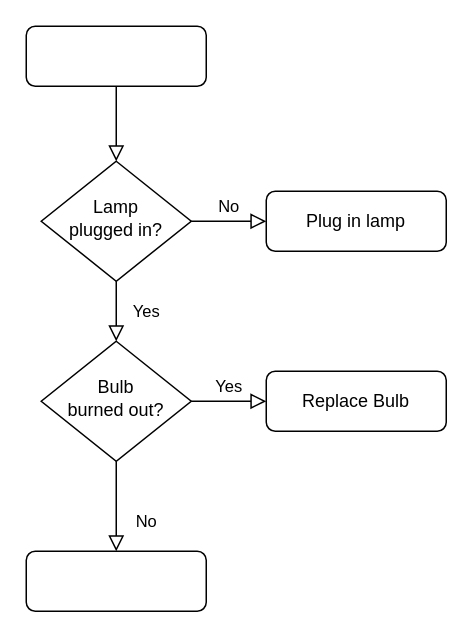
This 473x638 diagram has some shape labels left out. Each missing label, with the centre of its shape:
Mobile Nail Services: the point at 115,55
Repair Lamp: the point at 115,580
